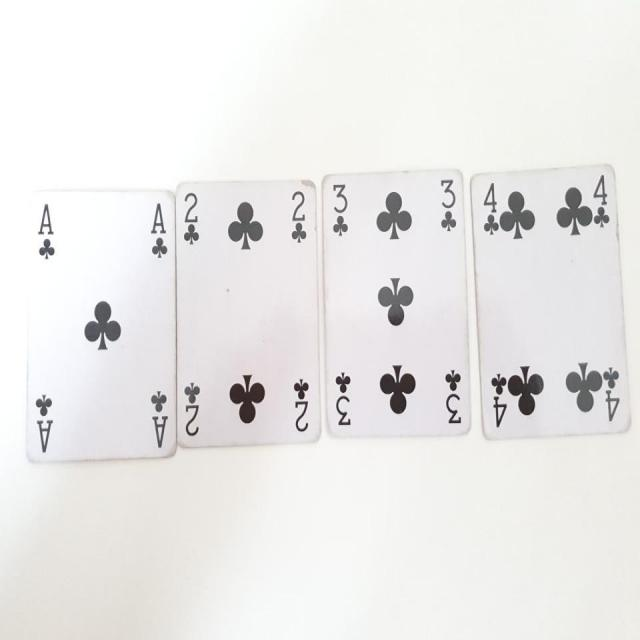2 Trefoils: (175, 175, 322, 448)
3 Trefoils: (319, 168, 474, 439)
4 Trefoils: (468, 161, 632, 441)
A Trefoils: (23, 188, 176, 460)
